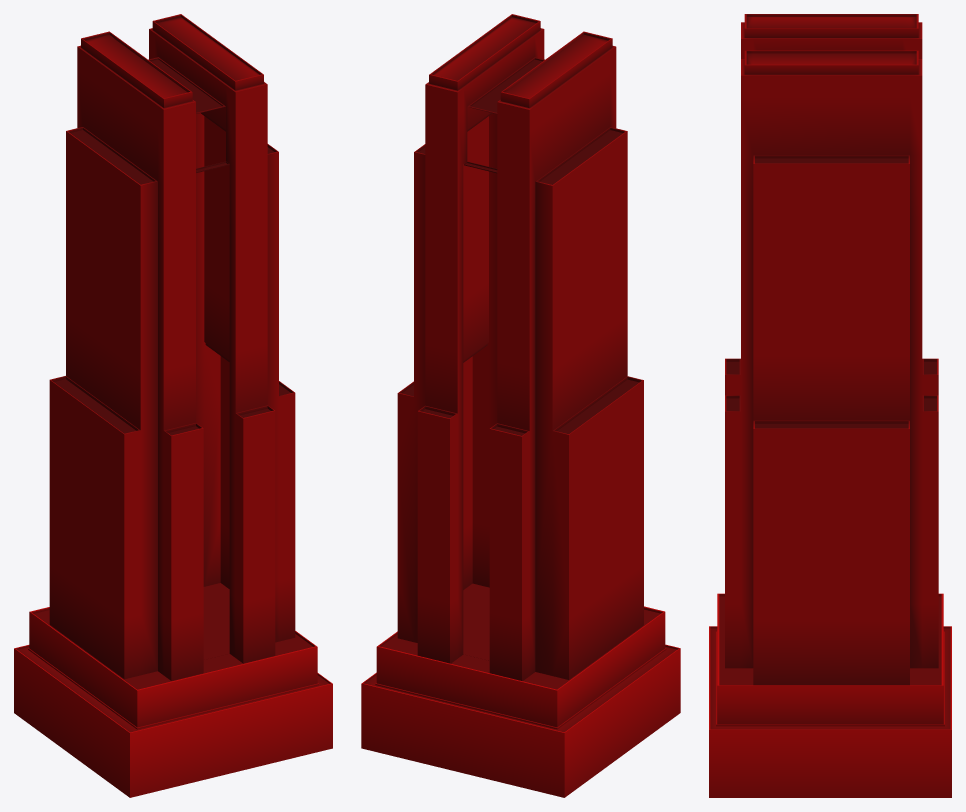
3 renders of one model, left to right at view 1: azimuth 30°, elevation 25°; view 2: azimuth 150°, elevation 25°; view 3: azimuth 270°, elevation 25°, orthographic. The views are drawn at different scales.
Visible parts, largest first — view 1: base.049; view 2: base.049; view 3: base.049.
Part boxes in pixels (bbox=[...]): base.049: bbox=[14, 14, 332, 797]; base.049: bbox=[361, 14, 680, 797]; base.049: bbox=[709, 14, 951, 797].
Bounding box in the file's own units: 2071 × 2093 × 6645.
